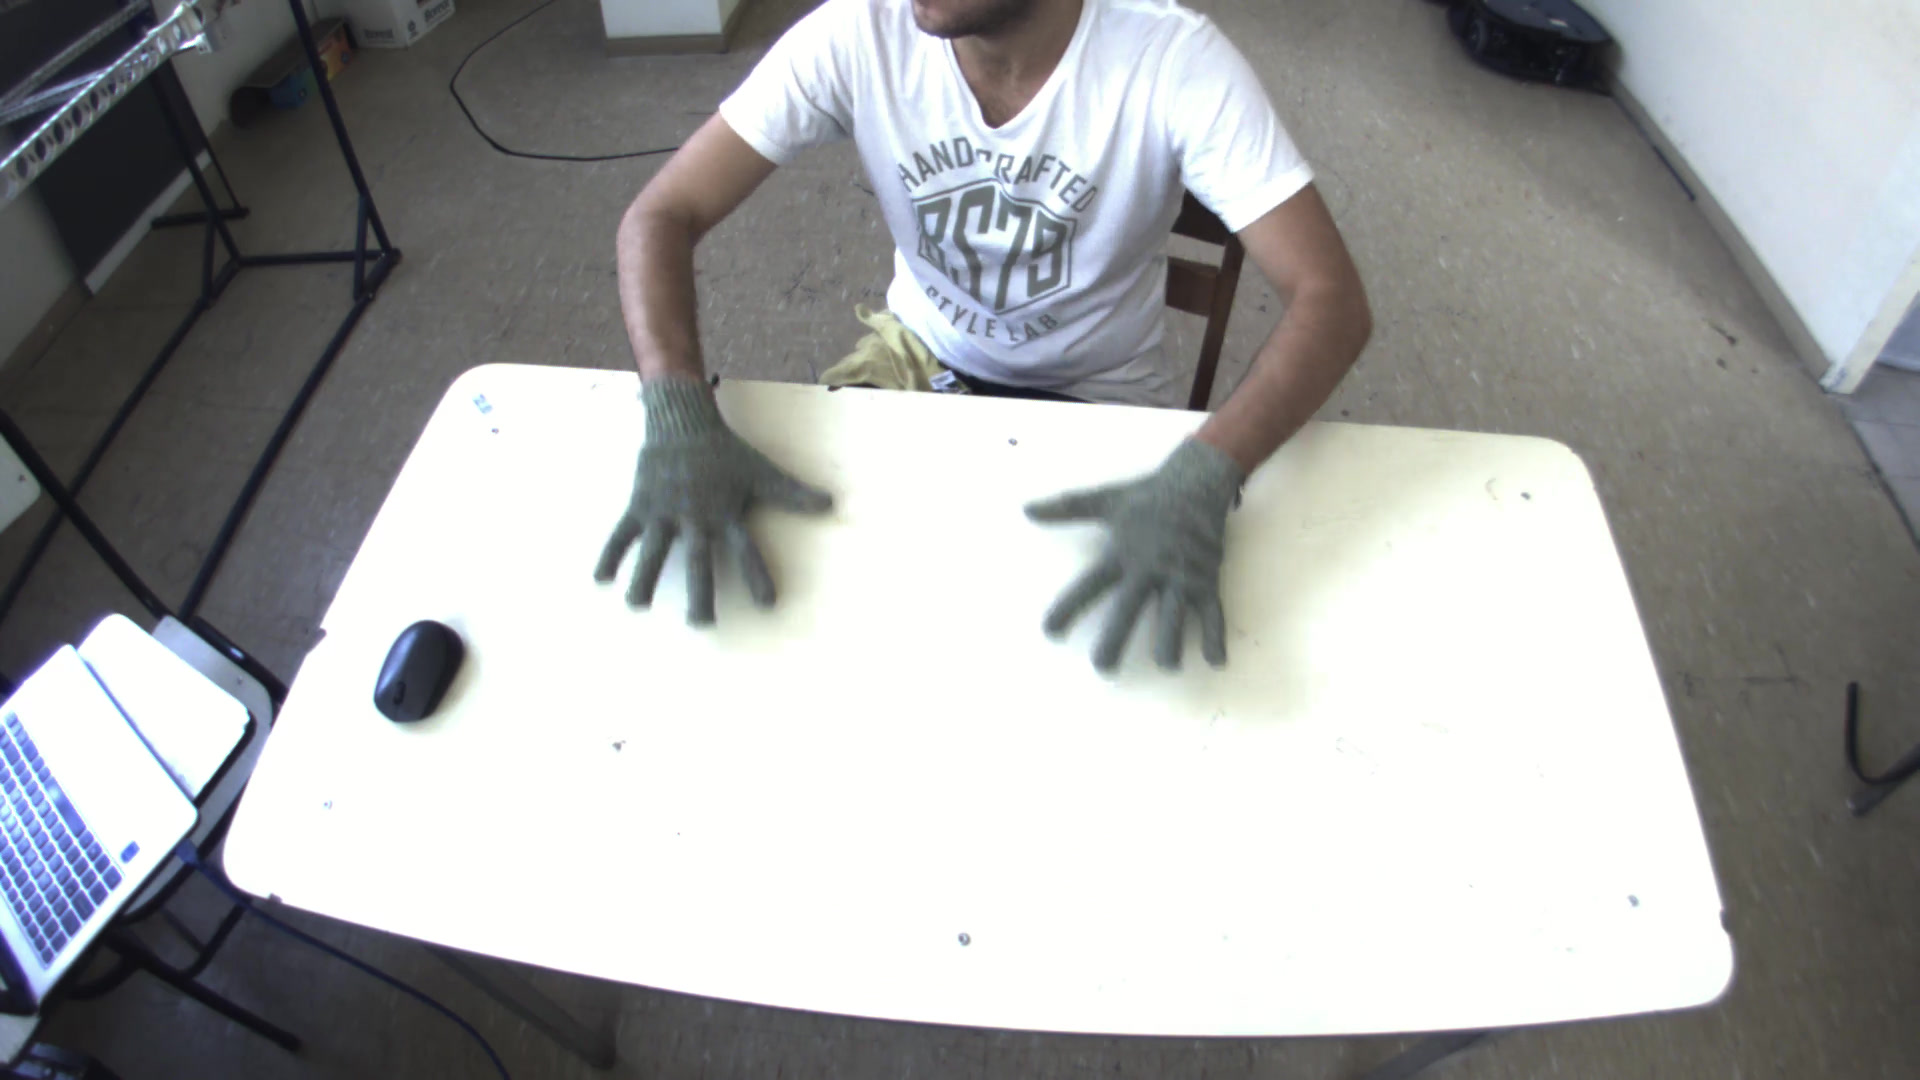hand: (580, 359, 832, 626), (1010, 430, 1251, 679)
